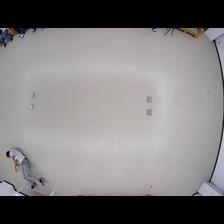fall: (6, 147, 46, 191)
